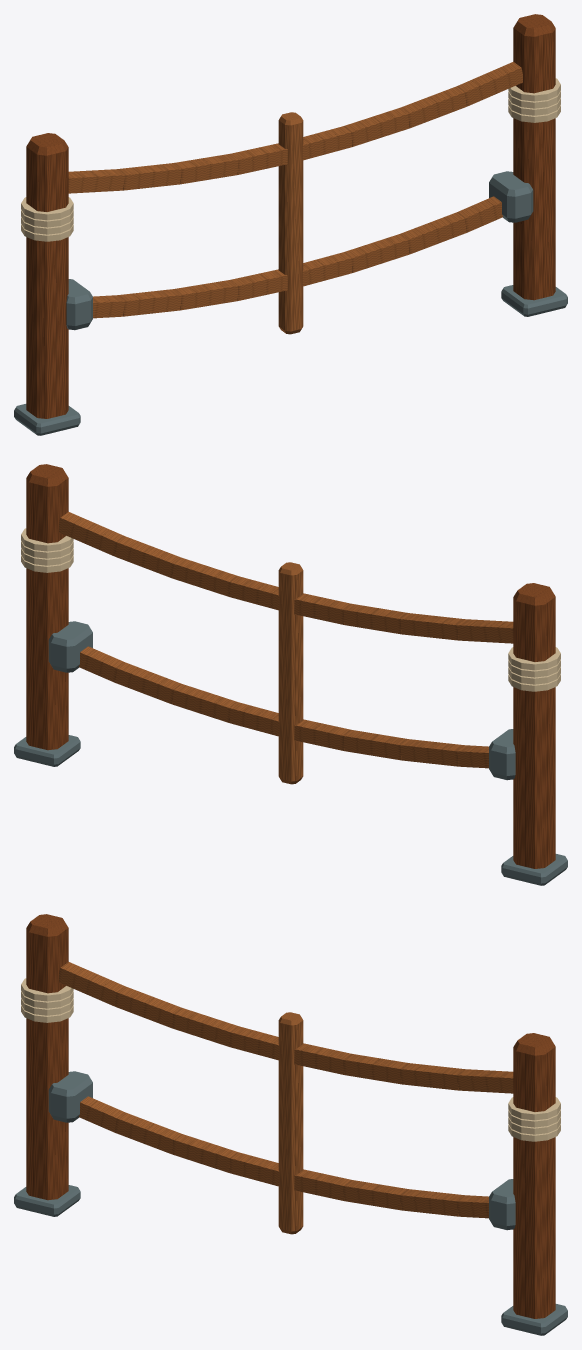
The model's file is ocean-raft-settlement-ocean-raft-settlement-rail-gate-052c7e65__28901.glb.
The picture shows the model from 3 angles, top to bottom: view 1: azimuth 30°, elevation 25°; view 2: azimuth 150°, elevation 25°; view 3: azimuth 330°, elevation 25°; orthographic projection.
Parts seen in each view (by area): view 1: pale, wood, iron, rope; view 2: pale, wood, iron, rope; view 3: pale, wood, iron, rope.
Boxes of the visible parts, box(x1,y1,x2,y2) form: pale: box(68, 61, 522, 334); wood: box(26, 14, 555, 418); iron: box(14, 171, 567, 435); rope: box(21, 78, 560, 241); pale: box(59, 511, 513, 784); wood: box(26, 464, 555, 868); iron: box(14, 621, 567, 885); rope: box(21, 528, 560, 691); pale: box(59, 961, 513, 1234); wood: box(26, 914, 555, 1318); iron: box(14, 1071, 567, 1335); rope: box(21, 978, 560, 1141).
Size of the model in its own units: 2.03 by 1.03 by 0.1741.
4 materials, 2 textured.
